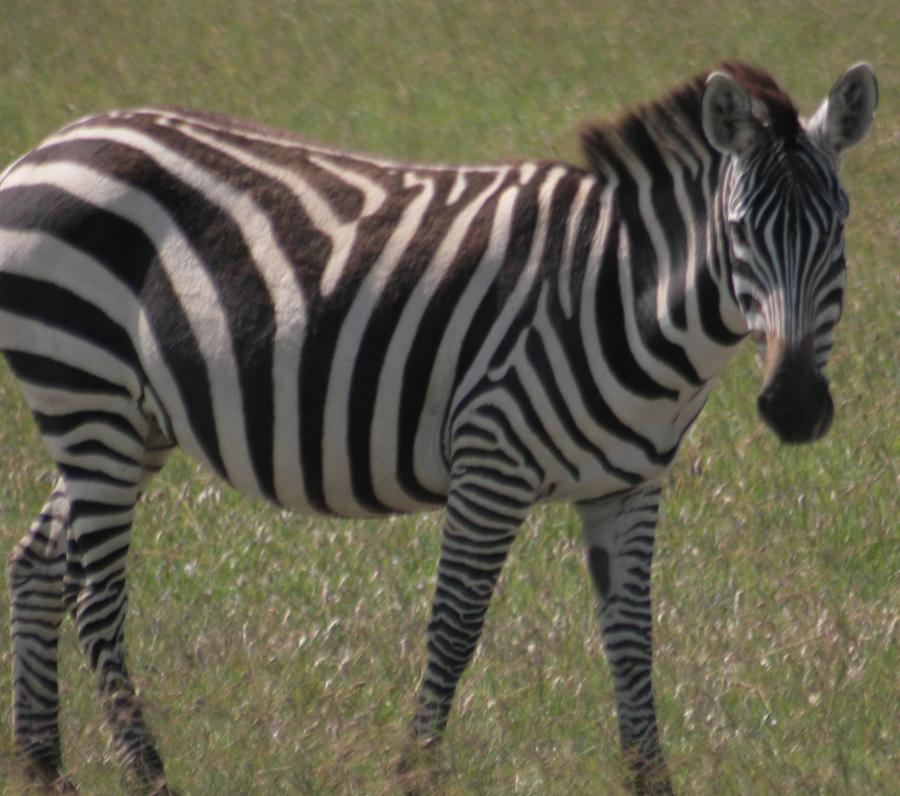zebra_plains: (3, 131, 625, 480)
